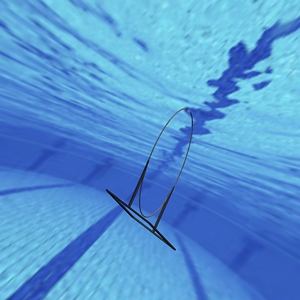circle: (106, 105, 194, 252)
